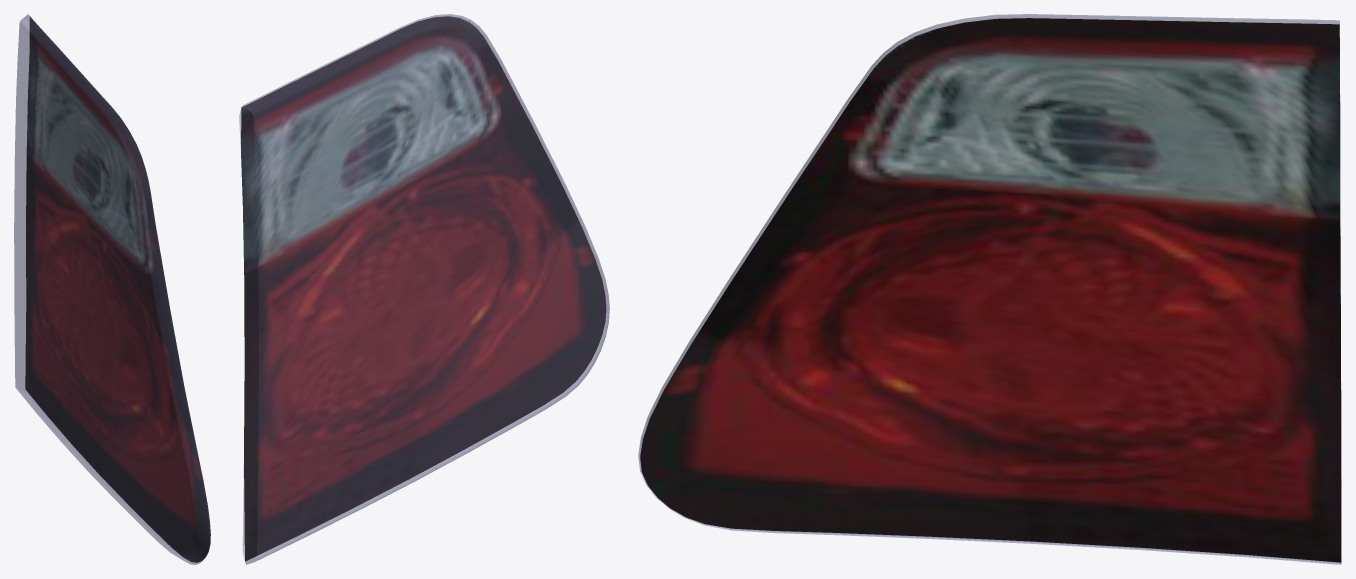
3 renders of one model, left to right at view 1: azimuth 30°, elevation 25°; view 2: azimuth 150°, elevation 25°; view 3: azimuth 270°, elevation 25°, orthographic. The views are drawn at different scales.
Visible parts, largest first — view 1: H124_541D_L_H124_541D_L_2_DTaSI, H124_541D_L_1_N_H124_541D_L; view 2: H124_541D_L_H124_541D_L_2_DTaSI, H124_541D_L_1_N_H124_541D_L; view 3: H124_541D_L_1_N_H124_541D_L, H124_541D_L_H124_541D_L_2_DTaSI.
Part boxes in pixels (x1=…): H124_541D_L_H124_541D_L_2_DTaSI: x1=14, y1=14, x2=210, y2=564; H124_541D_L_1_N_H124_541D_L: x1=25, y1=17, x2=210, y2=562; H124_541D_L_H124_541D_L_2_DTaSI: x1=239, y1=14, x2=609, y2=564; H124_541D_L_1_N_H124_541D_L: x1=241, y1=16, x2=606, y2=561; H124_541D_L_1_N_H124_541D_L: x1=640, y1=18, x2=1341, y2=562; H124_541D_L_H124_541D_L_2_DTaSI: x1=638, y1=14, x2=1341, y2=564.
Bounding box in the file's own units: 5.24 × 27.01 × 31.26.
